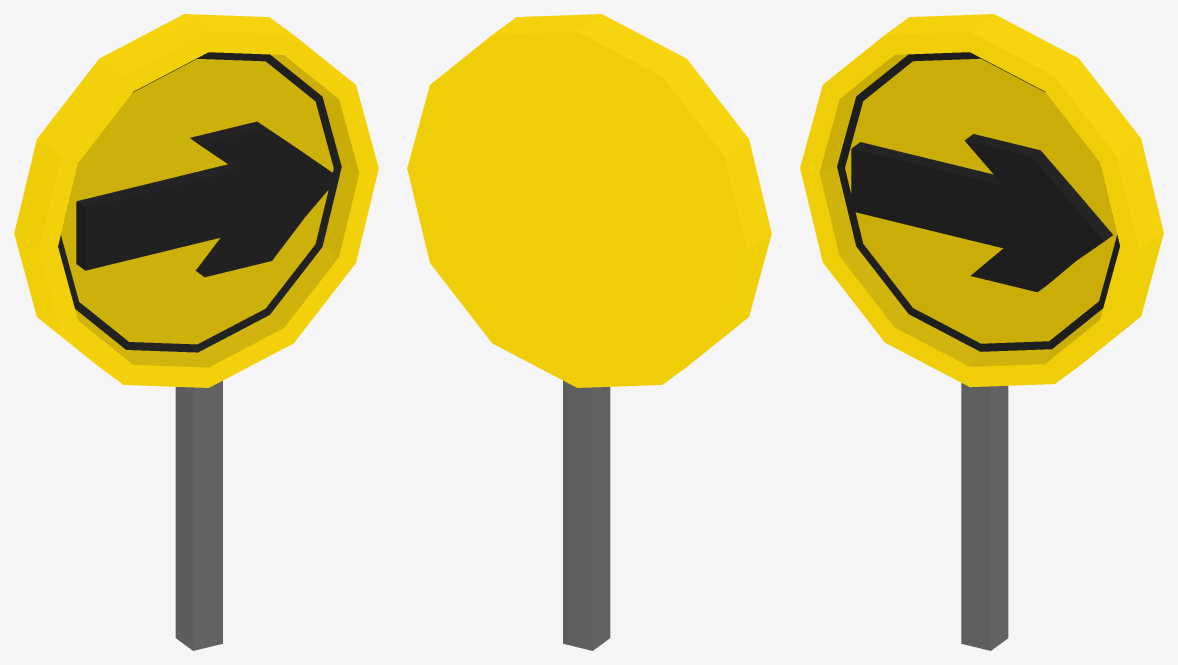
The model's file is SeñalFinal.glb.
3 views of the same model, side by side, from view 1: azimuth 30°, elevation 25°; view 2: azimuth 150°, elevation 25°; view 3: azimuth 330°, elevation 25° (orthographic).
Visible parts, largest first — view 1: Señal; view 2: Señal; view 3: Señal.
Boxes of the visible parts, x1,y1,x2,y2 form: Señal: (14, 14, 378, 650); Señal: (407, 14, 771, 650); Señal: (800, 14, 1163, 650).
Bounding box in the file's own units: 4.05 × 7.03 × 0.5021.
